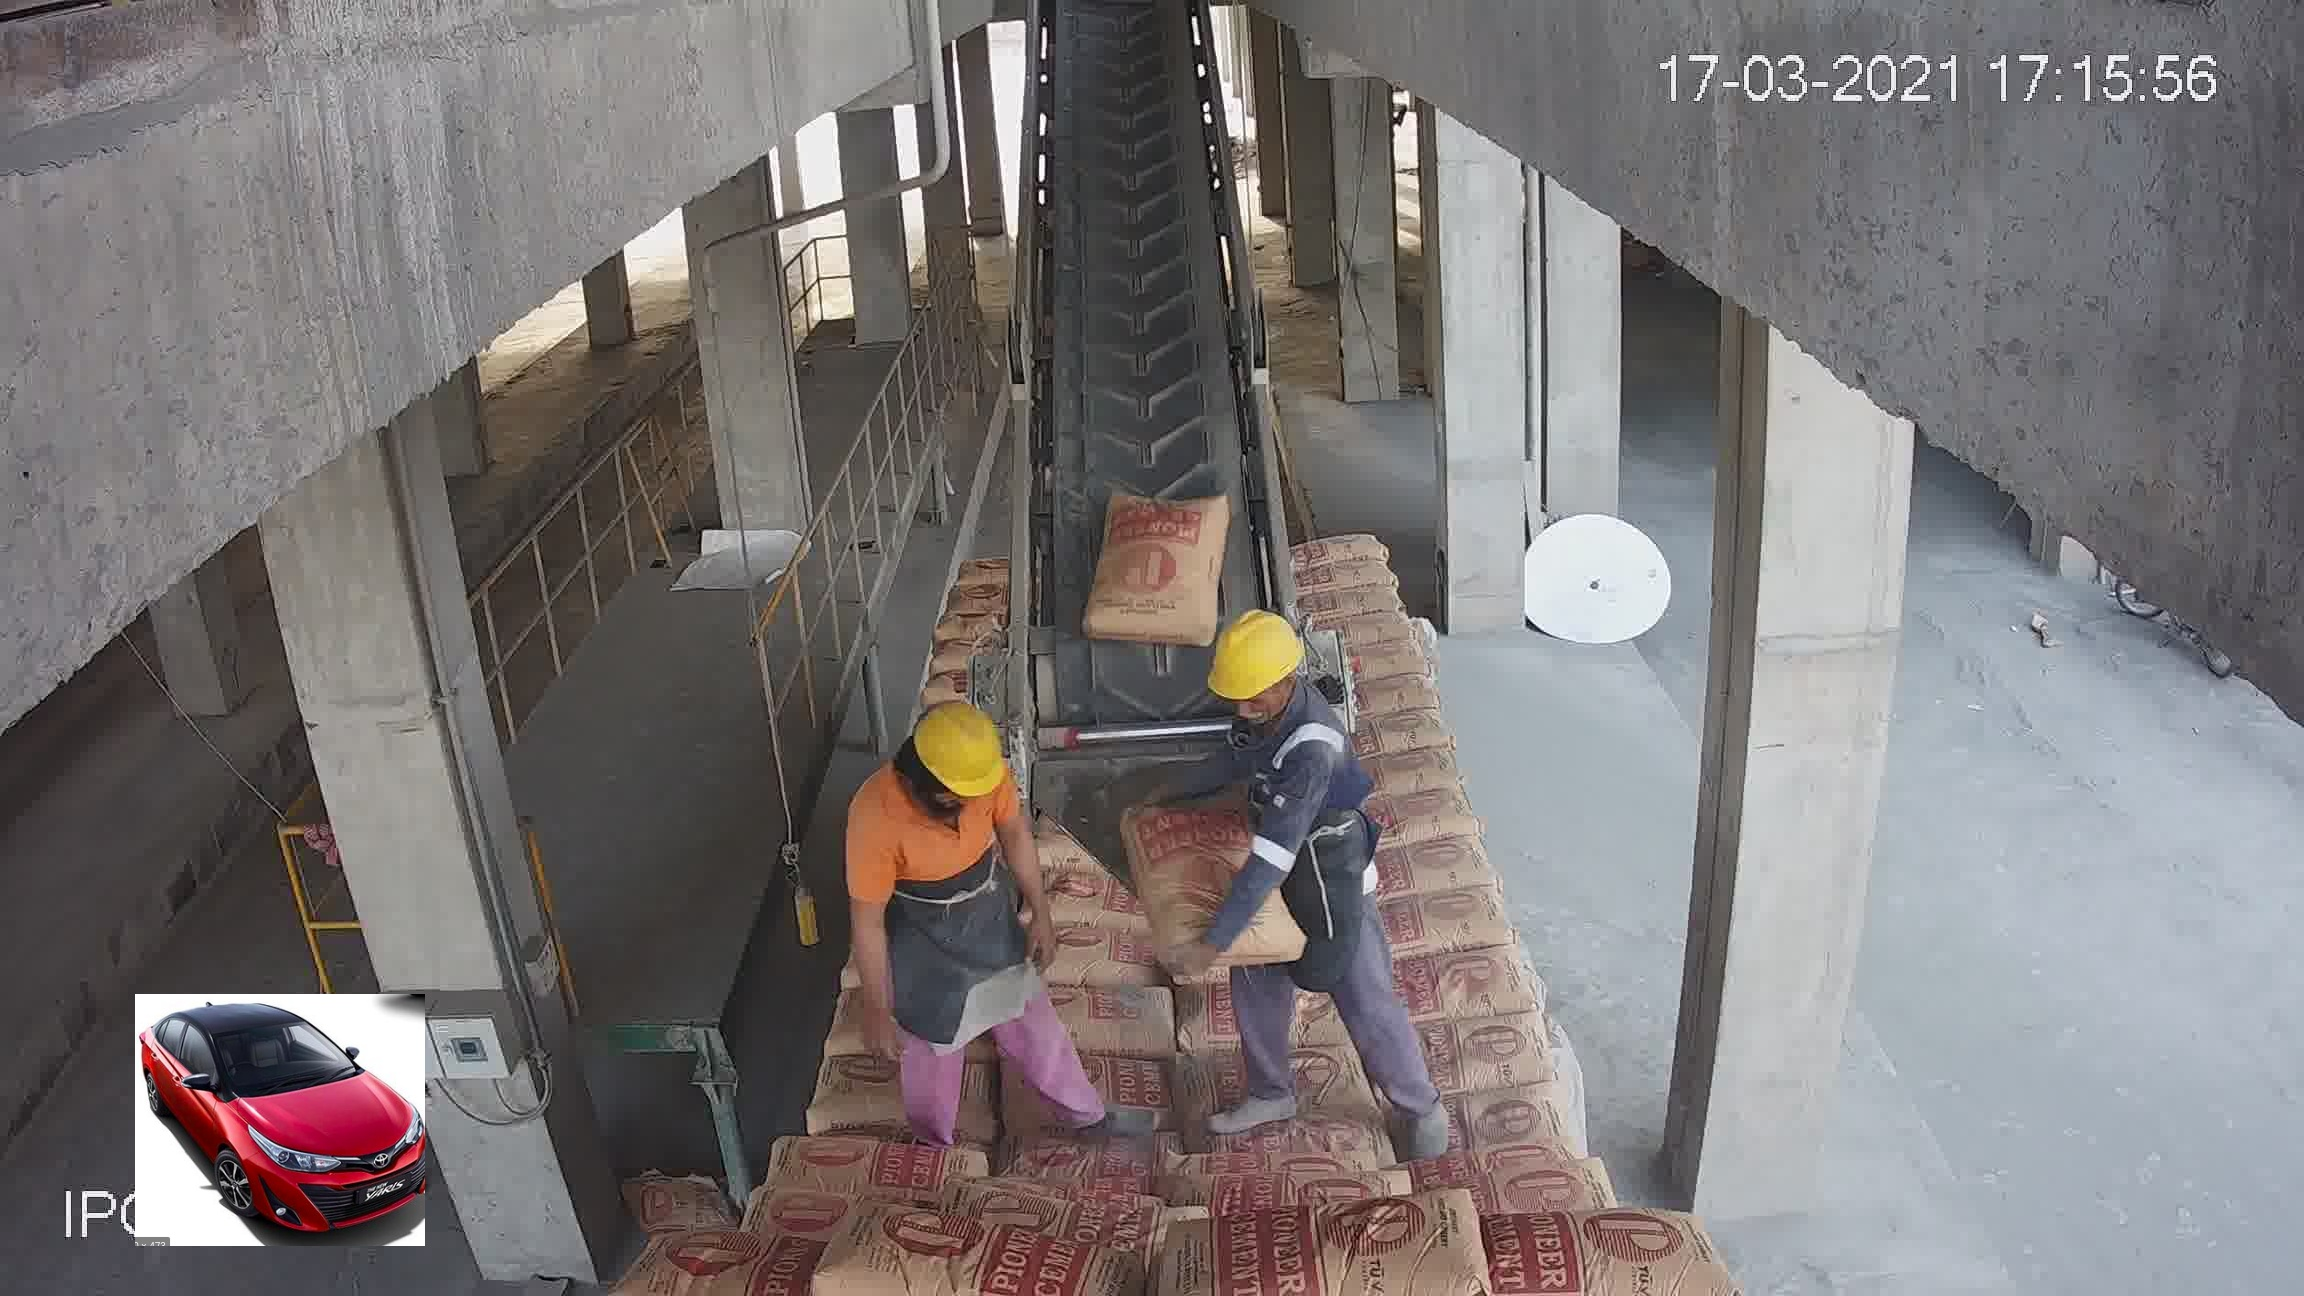bag: (991, 40, 1277, 873), (1138, 780, 1290, 975), (1089, 491, 1230, 650)
bag_h: (1161, 1204, 1487, 1294), (1426, 1199, 1698, 1294), (812, 1222, 1112, 1296), (782, 1112, 980, 1196), (1407, 1008, 1570, 1098), (620, 1226, 831, 1296), (1369, 892, 1533, 964), (1432, 1092, 1575, 1171), (1389, 959, 1537, 1025), (1364, 839, 1502, 905), (1366, 779, 1475, 856), (1332, 707, 1465, 763), (1356, 744, 1464, 809), (1298, 589, 1404, 628), (1307, 562, 1400, 598), (1301, 540, 1394, 563)
